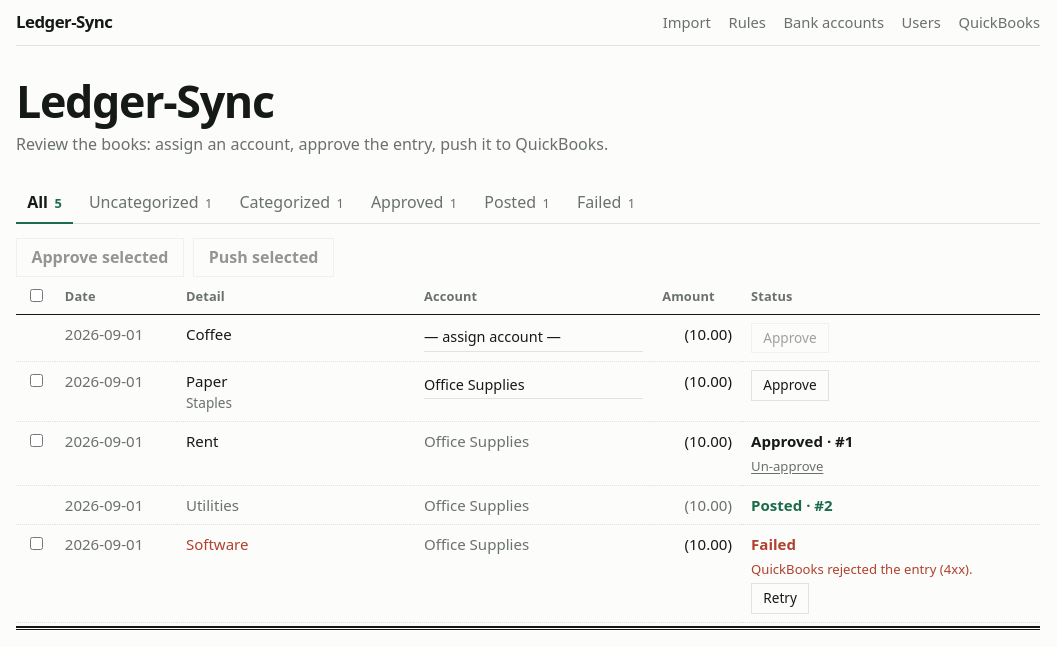
Test: renders a tab per state with counts and filters the sheet
The width and height of the screenshot is (1057, 647).
Expected: the tab "All 5" is shown, 16,182 -> 73,224
Expected: the tab "Failed 1" is shown, 566,182 -> 646,224
Click the tab "Uncategorized 1" at (151, 203), box 78,182 -> 224,224
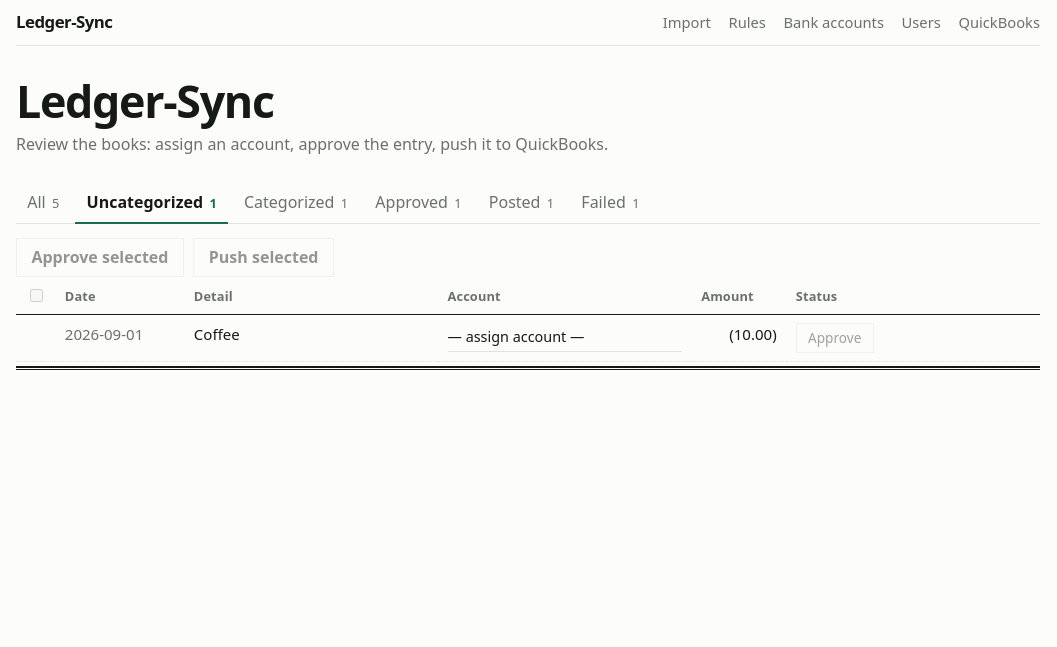
Expected: the text "Coffee" is shown, 194,324 -> 240,344
Result: the text "Rent" is gone
